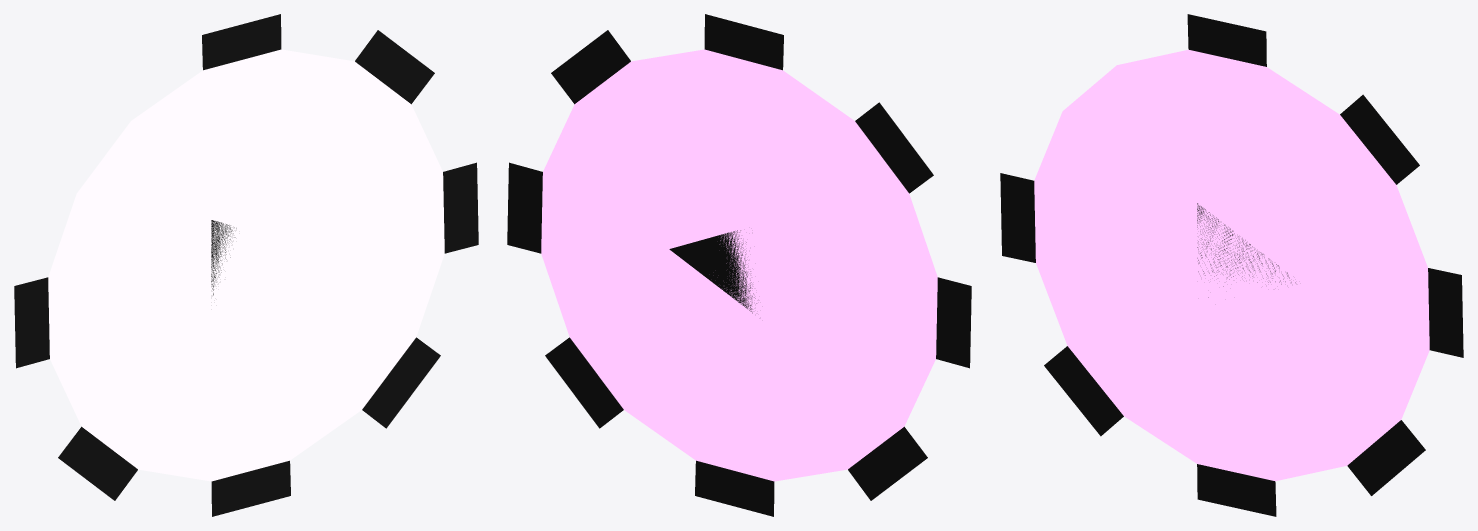
File: ShortRangeVisual.glb
3 renders of one model, left to right at view 1: azimuth 30°, elevation 25°; view 2: azimuth 150°, elevation 25°; view 3: azimuth 330°, elevation 25°, orthographic.
Visible parts, largest first — view 1: ShortRangeVisual, ShortRangeVisual.002; view 2: ShortRangeVisual, ShortRangeVisual.002; view 3: ShortRangeVisual, ShortRangeVisual.002.
Part boxes in pixels (<box>): ShortRangeVisual: <box>14,14,478,516</box>; ShortRangeVisual.002: <box>211,220,236,295</box>; ShortRangeVisual: <box>507,14,971,516</box>; ShortRangeVisual.002: <box>669,230,756,313</box>; ShortRangeVisual: <box>1000,14,1463,516</box>; ShortRangeVisual.002: <box>1197,203,1295,297</box>.
Size of the model in its own units: 20.76 by 20.76 by 6.29e-07.
